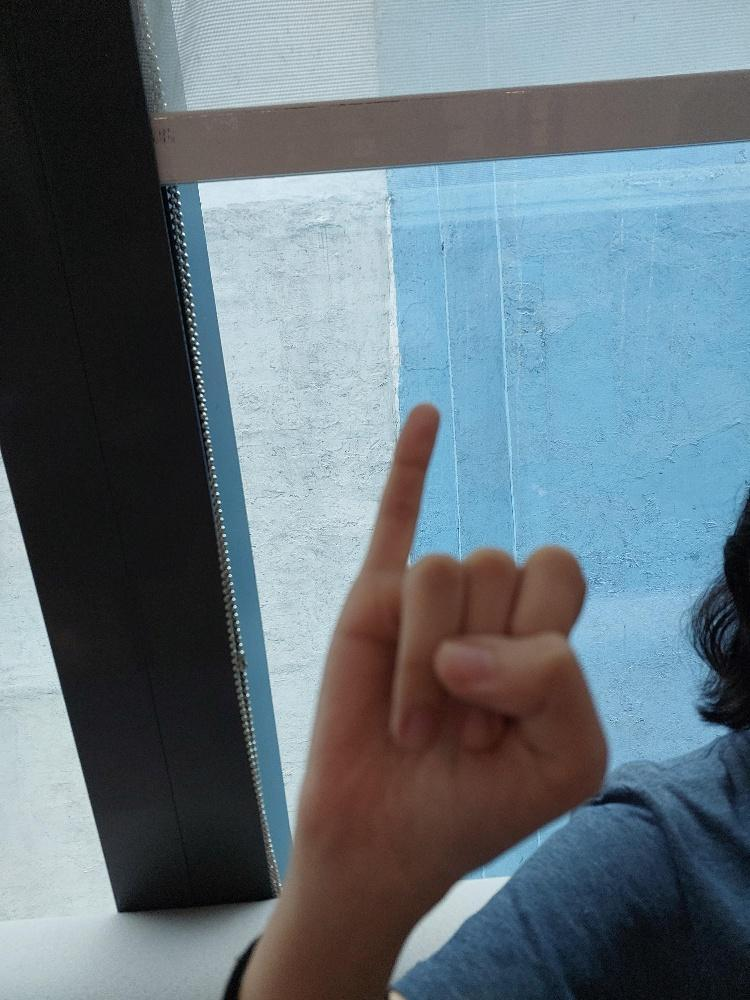i: (293, 402, 608, 869)
